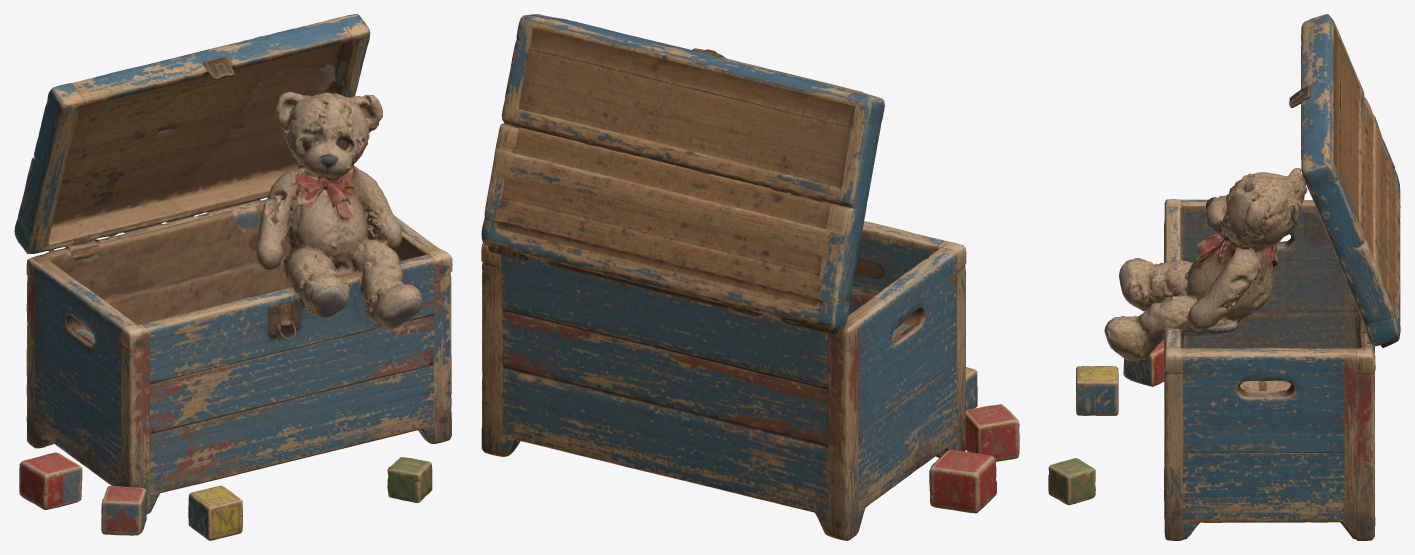
The model's file is ToyChest.fbx.
3 views of the same model, side by side, from view 1: azimuth 30°, elevation 25°; view 2: azimuth 150°, elevation 25°; view 3: azimuth 270°, elevation 25° (orthographic). The views are drawn at different scales.
Parts seen in each view (by area): view 1: texture_mapping; view 2: texture_mapping; view 3: texture_mapping.
Part boxes in pixels (<box>): texture_mapping: <box>14,14,452,540</box>; texture_mapping: <box>481,14,1019,540</box>; texture_mapping: <box>1048,14,1400,540</box>.
Size of the model in its own units: 1 by 0.7946 by 0.9301.
1 material, 1 textured.
